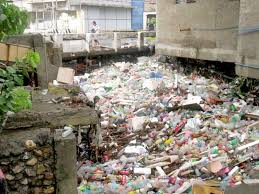garbage: (80, 70, 259, 192), (111, 62, 222, 194)
